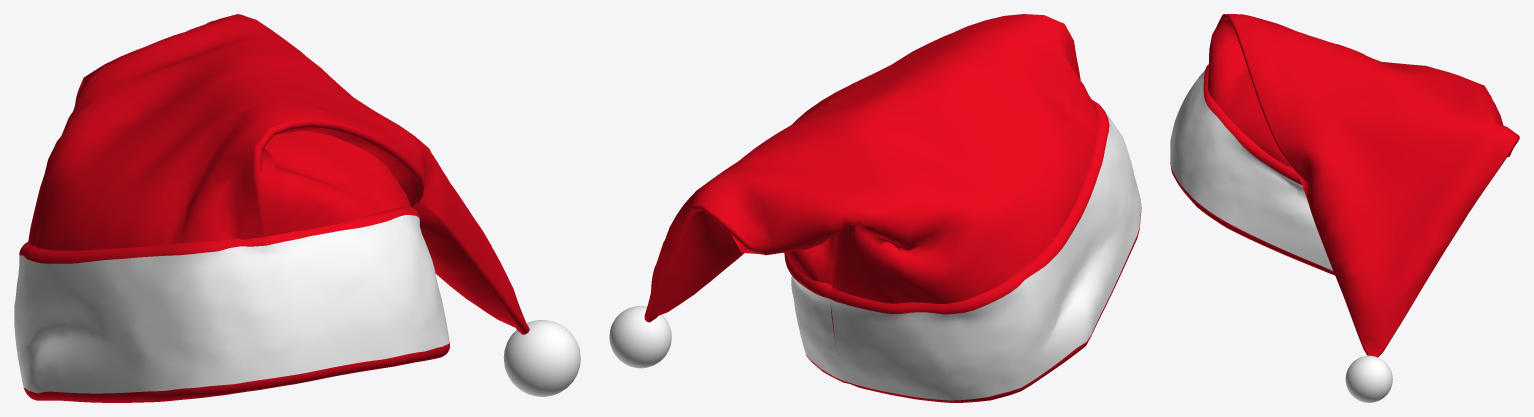
File: uploads_files_4186441_christmashat.fbx
3 views of the same model, side by side, from view 1: azimuth 30°, elevation 25°; view 2: azimuth 150°, elevation 25°; view 3: azimuth 270°, elevation 25° (orthographic). The views are drawn at different scales.
Visible parts, largest first — view 1: hat3, pelo, sfera; view 2: hat3, pelo, sfera; view 3: hat3, pelo, sfera.
Part boxes in pixels (x1,y1,x2,y2): hat3: (19, 14, 529, 402); pelo: (14, 215, 449, 393); sfera: (503, 320, 580, 396); hat3: (644, 14, 1141, 402); pelo: (791, 111, 1141, 400); sfera: (609, 306, 671, 368); hat3: (1170, 14, 1519, 357); pelo: (1170, 69, 1332, 270); sfera: (1345, 355, 1392, 402).
Bounding box in the file's own units: 29.71 × 22.24 × 25.88.
